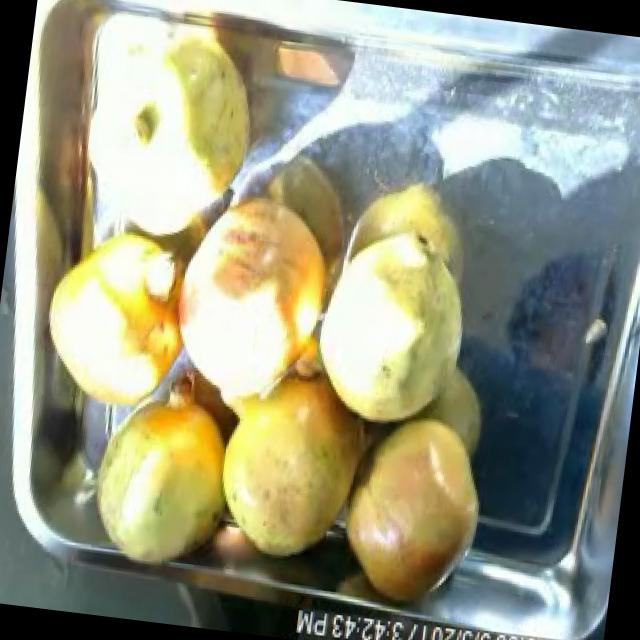fruit: (78, 12, 276, 274), (287, 202, 493, 450), (170, 160, 360, 426), (66, 350, 260, 584), (22, 202, 210, 430), (194, 352, 378, 576), (326, 398, 498, 619)
